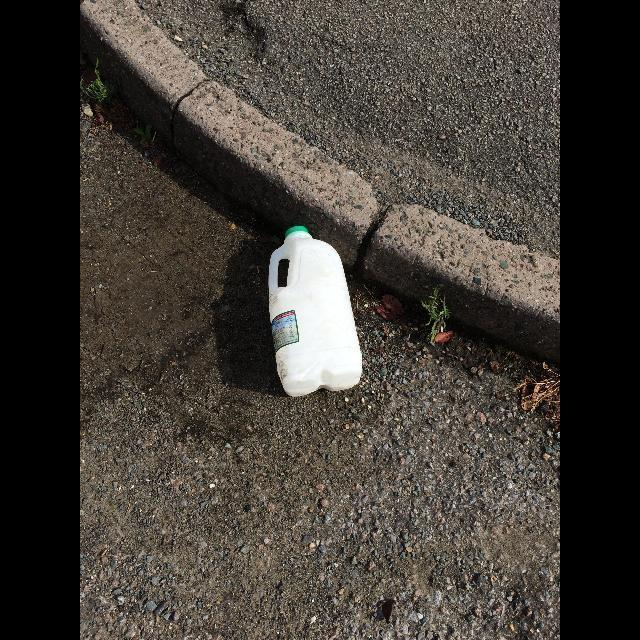Plastic: (268, 226, 362, 396), (285, 226, 309, 238)
